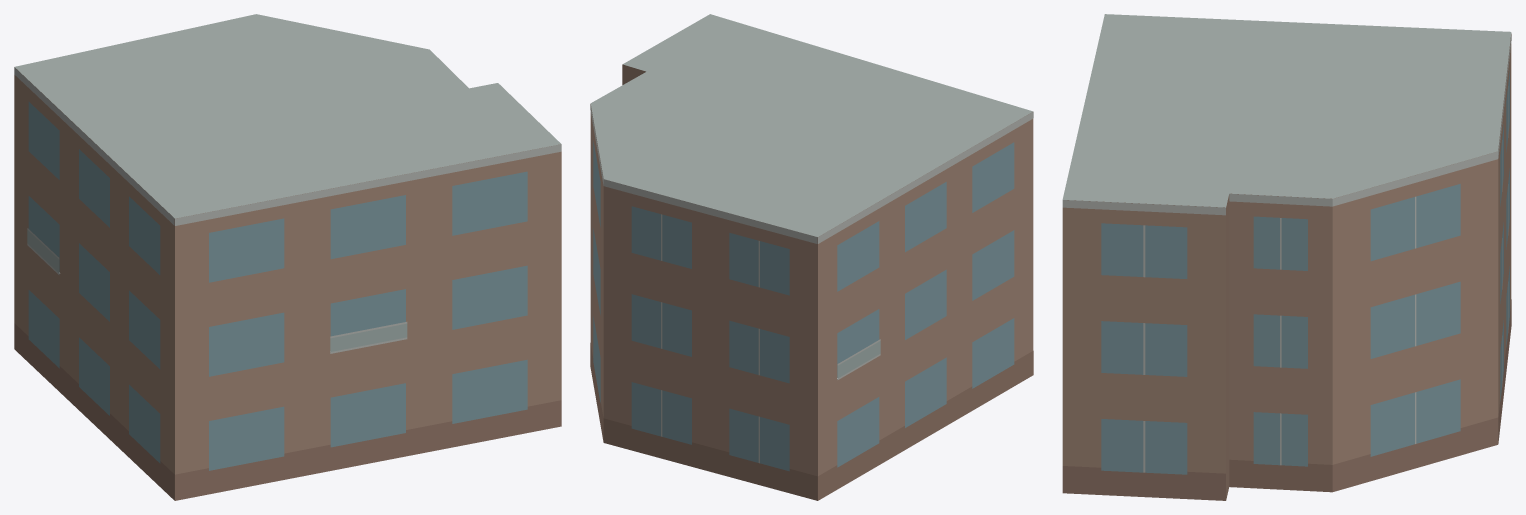
The model's file is survey-upis-32804597.glb.
The picture shows the model from 3 angles, left to right: view 1: azimuth 30°, elevation 25°; view 2: azimuth 150°, elevation 25°; view 3: azimuth 270°, elevation 25°; orthographic projection. The views are drawn at different scales.
Parts seen in each view (by area): view 1: survey-upis-32804597.tmp; view 2: survey-upis-32804597.tmp; view 3: survey-upis-32804597.tmp.
Part boxes in pixels (x1,y1,x2,y2): survey-upis-32804597.tmp: [14, 14, 561, 500]; survey-upis-32804597.tmp: [590, 14, 1033, 500]; survey-upis-32804597.tmp: [1062, 14, 1511, 500].
Size of the model in its own units: 12.95 by 9.15 by 12.7.
